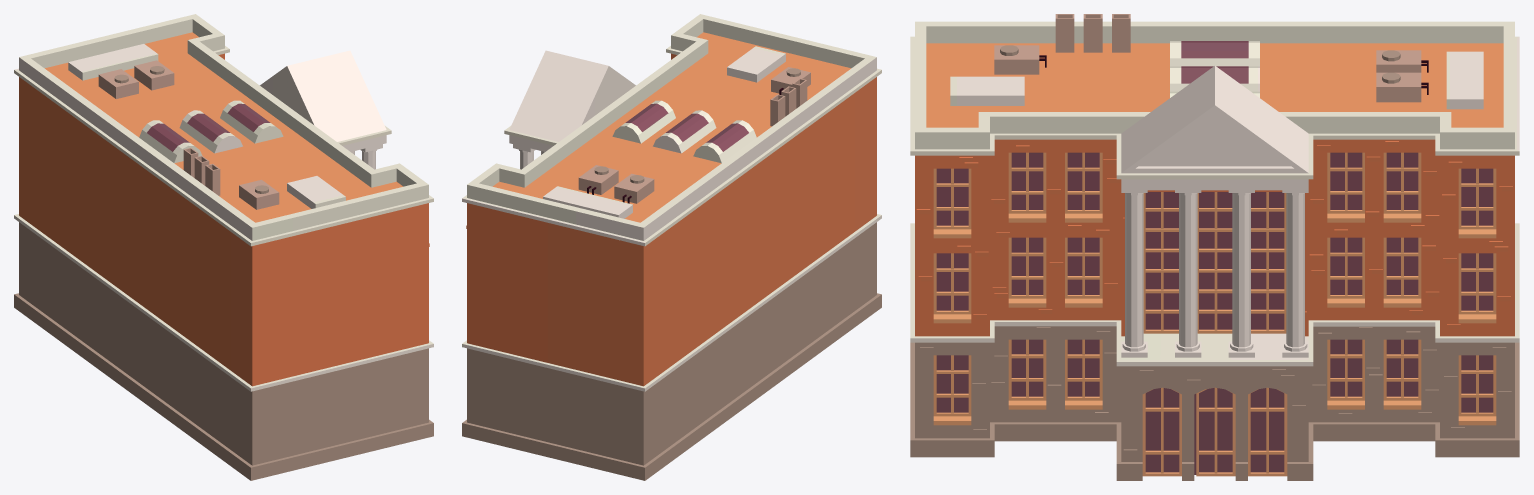
File: wikara.optimized.glb
3 renders of one model, left to right at view 1: azimuth 30°, elevation 25°; view 2: azimuth 150°, elevation 25°; view 3: azimuth 270°, elevation 25°, orthographic. The views are drawn at different scales.
Parts seen in each view (by area): view 1: Object_2; view 2: Object_2; view 3: Object_2.
Boxes of the visible parts, bbox=[...] form: Object_2: bbox=[14, 14, 433, 480]; Object_2: bbox=[462, 14, 881, 480]; Object_2: bbox=[910, 14, 1519, 480].
Bounding box in the file's own units: 17.5 × 22 × 32.5.
1 material, 1 textured.
